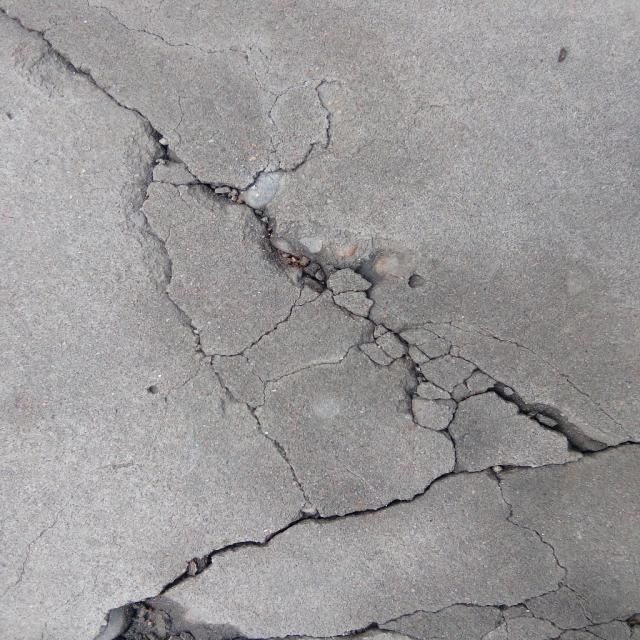cracks: (32, 9, 628, 640)
